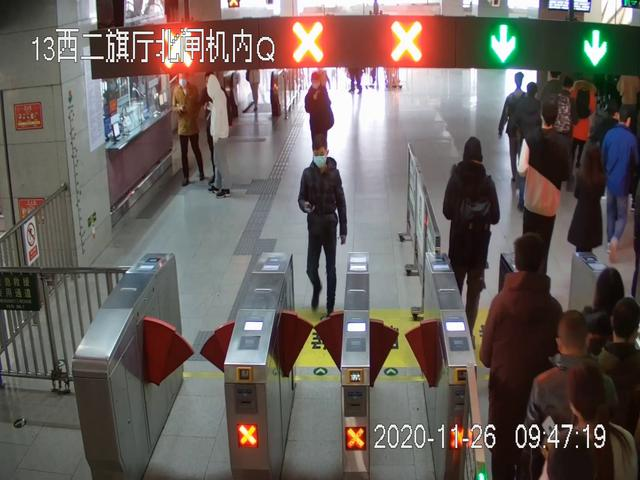person: (481, 236, 565, 480), (529, 310, 618, 480), (444, 138, 500, 335), (515, 102, 570, 291), (297, 141, 347, 316), (600, 108, 640, 260), (570, 131, 609, 268), (171, 71, 208, 187), (204, 74, 234, 197), (305, 73, 337, 162), (568, 78, 600, 165)
